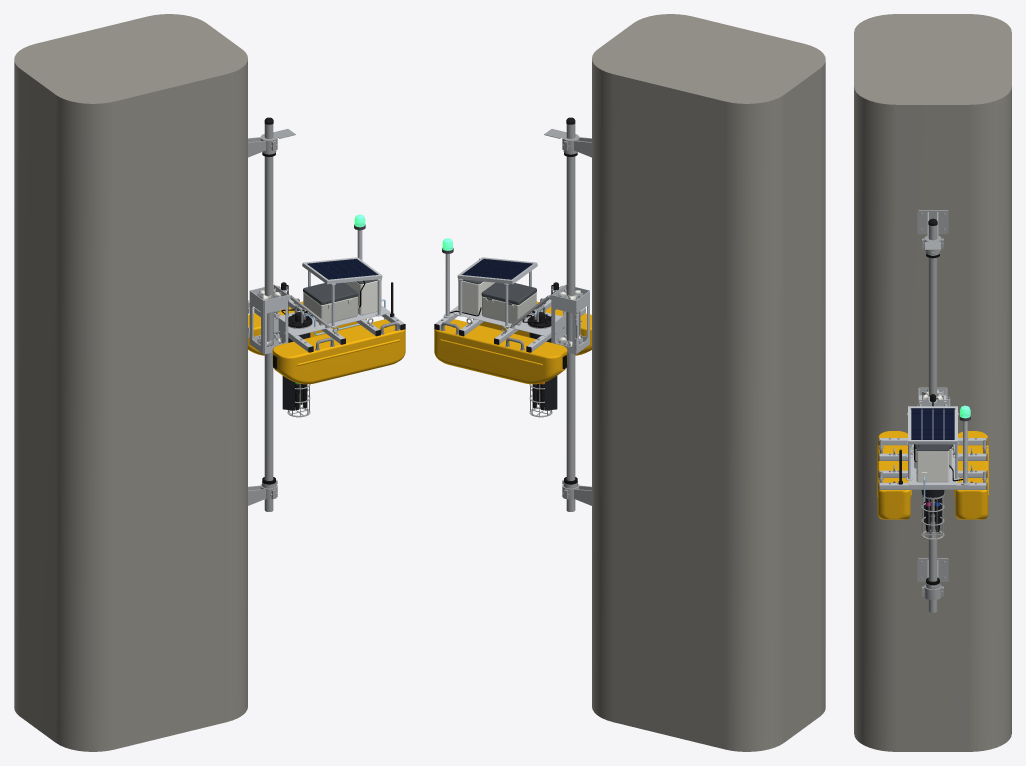
File: AquaSentinel_R3.glb
3 renders of one model, left to right at view 1: azimuth 30°, elevation 25°; view 2: azimuth 150°, elevation 25°; view 3: azimuth 270°, elevation 25°, orthographic.
Parts seen in each view (by area): view 1: Bridge_Pier, Pontoon_Port, Guide_Pole, Carriage_Gate, Pod_Body, PV_Module_Cells, Carriage_Fixed, Pod_Lid, Sampler_Body, Deck_Plate; view 2: Bridge_Pier, Pontoon_Starboard, Guide_Pole, Carriage_Fixed, Pod_Body, PV_Module_Cells, Pod_Lid, Sampler_Body, Carriage_Gate; view 3: Bridge_Pier, Guide_Pole, Pontoon_Port, Pontoon_Starboard, PV_Module_Cells, Sampler_Body, PV_Module_Frame, Pier_Bracket_Upper, Crossbeam_4, Sensor_Cage, Pier_Bracket_Lower, Deck_Plate (+5 smaller).
Part boxes in pixels (bbox=[...]): Bridge_Pier: bbox=[14, 14, 247, 751]; Pontoon_Port: bbox=[272, 319, 405, 384]; Guide_Pole: bbox=[264, 124, 273, 511]; Carriage_Gate: bbox=[248, 290, 279, 354]; Pod_Body: bbox=[303, 292, 358, 324]; PV_Module_Cells: bbox=[307, 259, 377, 279]; Carriage_Fixed: bbox=[248, 284, 290, 345]; Pod_Lid: bbox=[303, 282, 358, 304]; Sampler_Body: bbox=[345, 280, 381, 315]; Deck_Plate: bbox=[279, 306, 390, 336]; Bridge_Pier: bbox=[592, 14, 825, 751]; Pontoon_Starboard: bbox=[434, 319, 567, 384]; Guide_Pole: bbox=[566, 124, 575, 511]; Carriage_Fixed: bbox=[549, 284, 581, 354]; Pod_Body: bbox=[481, 292, 536, 324]; PV_Module_Cells: bbox=[462, 259, 532, 279]; Pod_Lid: bbox=[481, 282, 536, 304]; Sampler_Body: bbox=[458, 280, 494, 315]; Carriage_Gate: bbox=[568, 287, 589, 353]; Bridge_Pier: bbox=[854, 14, 1011, 751]; Guide_Pole: bbox=[928, 225, 937, 612]; Pontoon_Port: bbox=[877, 431, 911, 519]; Pontoon_Starboard: bbox=[954, 431, 988, 519]; PV_Module_Cells: bbox=[911, 408, 954, 439]; Sampler_Body: bbox=[916, 451, 949, 482]; PV_Module_Frame: bbox=[908, 406, 957, 444]; Pier_Bracket_Upper: bbox=[917, 210, 948, 239]; Crossbeam_4: bbox=[879, 482, 986, 489]; Sensor_Cage: bbox=[921, 492, 944, 539]; Pier_Bracket_Lower: bbox=[917, 558, 948, 587]; Deck_Plate: bbox=[908, 445, 957, 485].
Size of the model in its own units: 2.76 by 4.98 by 1.1.
